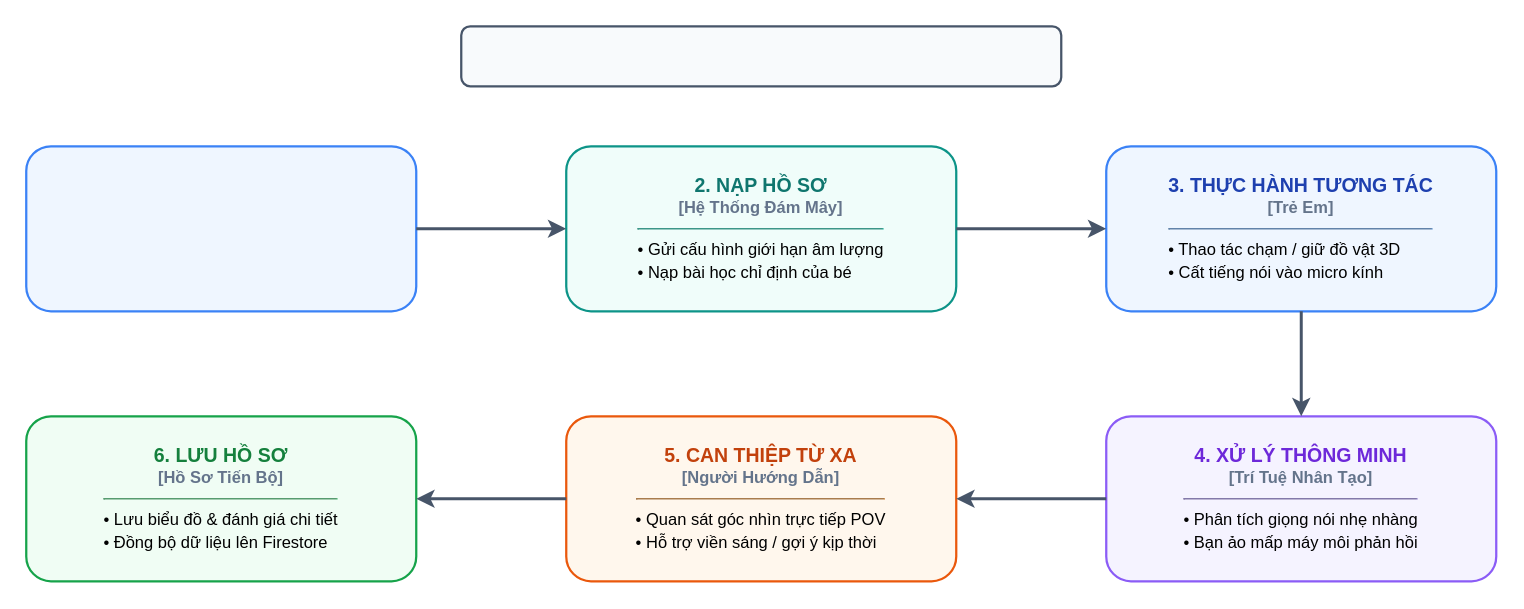
The diagram is 1524 pixels wide and 609 high, and some of its shapes have lost their labels. Each missing label, with the centre of its shape:
"1. KẾT NỐI [Kính VR] • Phát sinh mã PIN 6 số • Ghép nối an toàn qua Web" goes at (x=220, y=228).
"LUỒNG TƯƠNG TÁC TỔNG THỂ CỦA ỨNG DỤNG VR" goes at (x=760, y=55).
